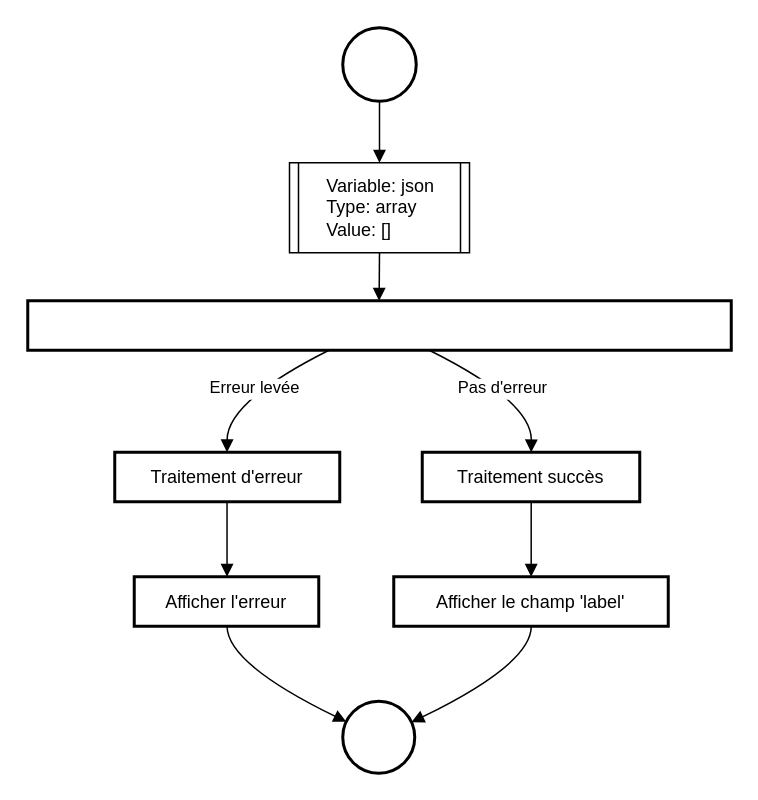
The diagram is 758 pixels wide and 800 high, and some of its shapes have lost their labels. Each missing label, with the centre of its shape:
"Faire une requête HTTP en GET vers l'URL 'https://api.test.com'" belongs at [379,324].
"Start" belongs at [378,64].
"Stop" belongs at [378,736].
